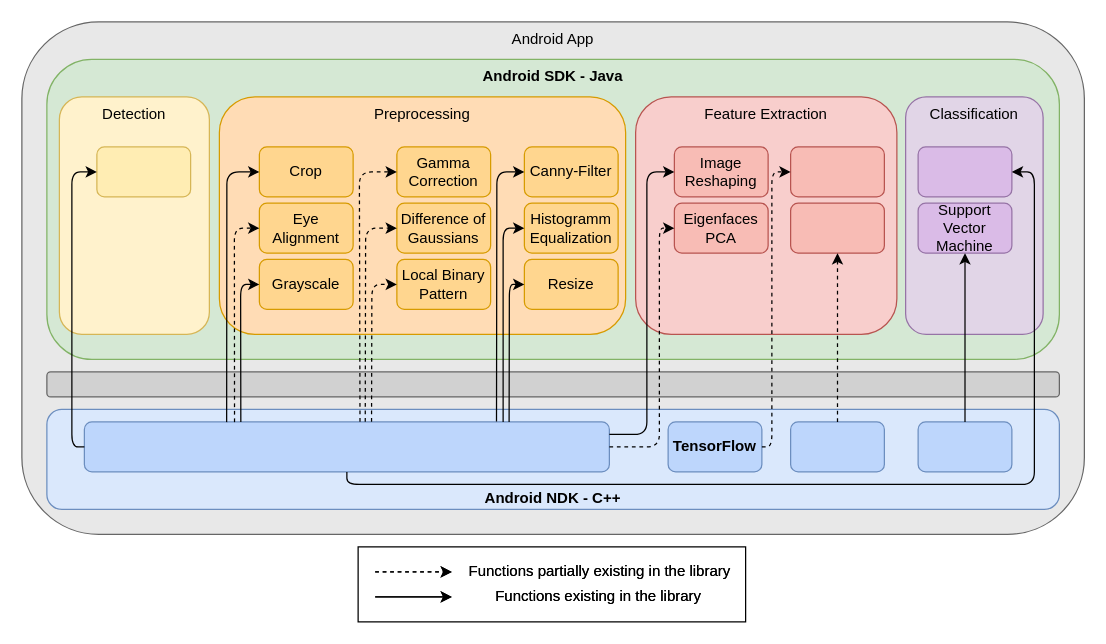
This 1106x644 diagram has some shape labels left out. Each missing label, with the centre of its shape:
Caffe: [836,446]
Caffe CNN: [836,227]
JNI: [552,384]
K-Nearest Neighbors: [964,171]
LIBSVM: [964,446]
OpenCV: [346,446]
TensorFlow CNN: [836,171]
Viola-Jones-Algorithmus: [143,171]
